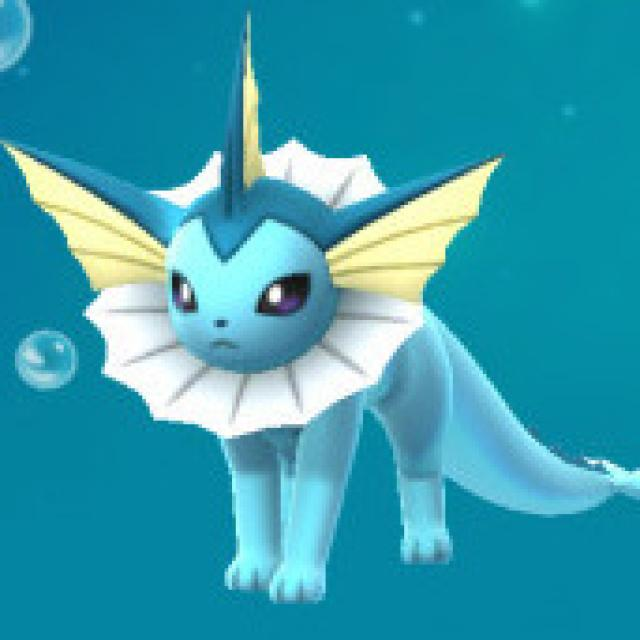Vaporeon: (68, 86, 531, 544)
